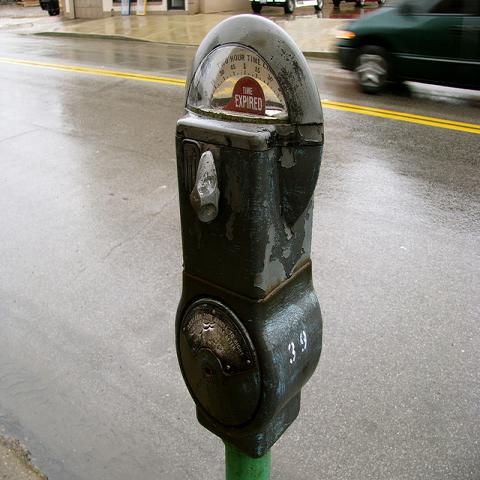car: (334, 0, 479, 96)
